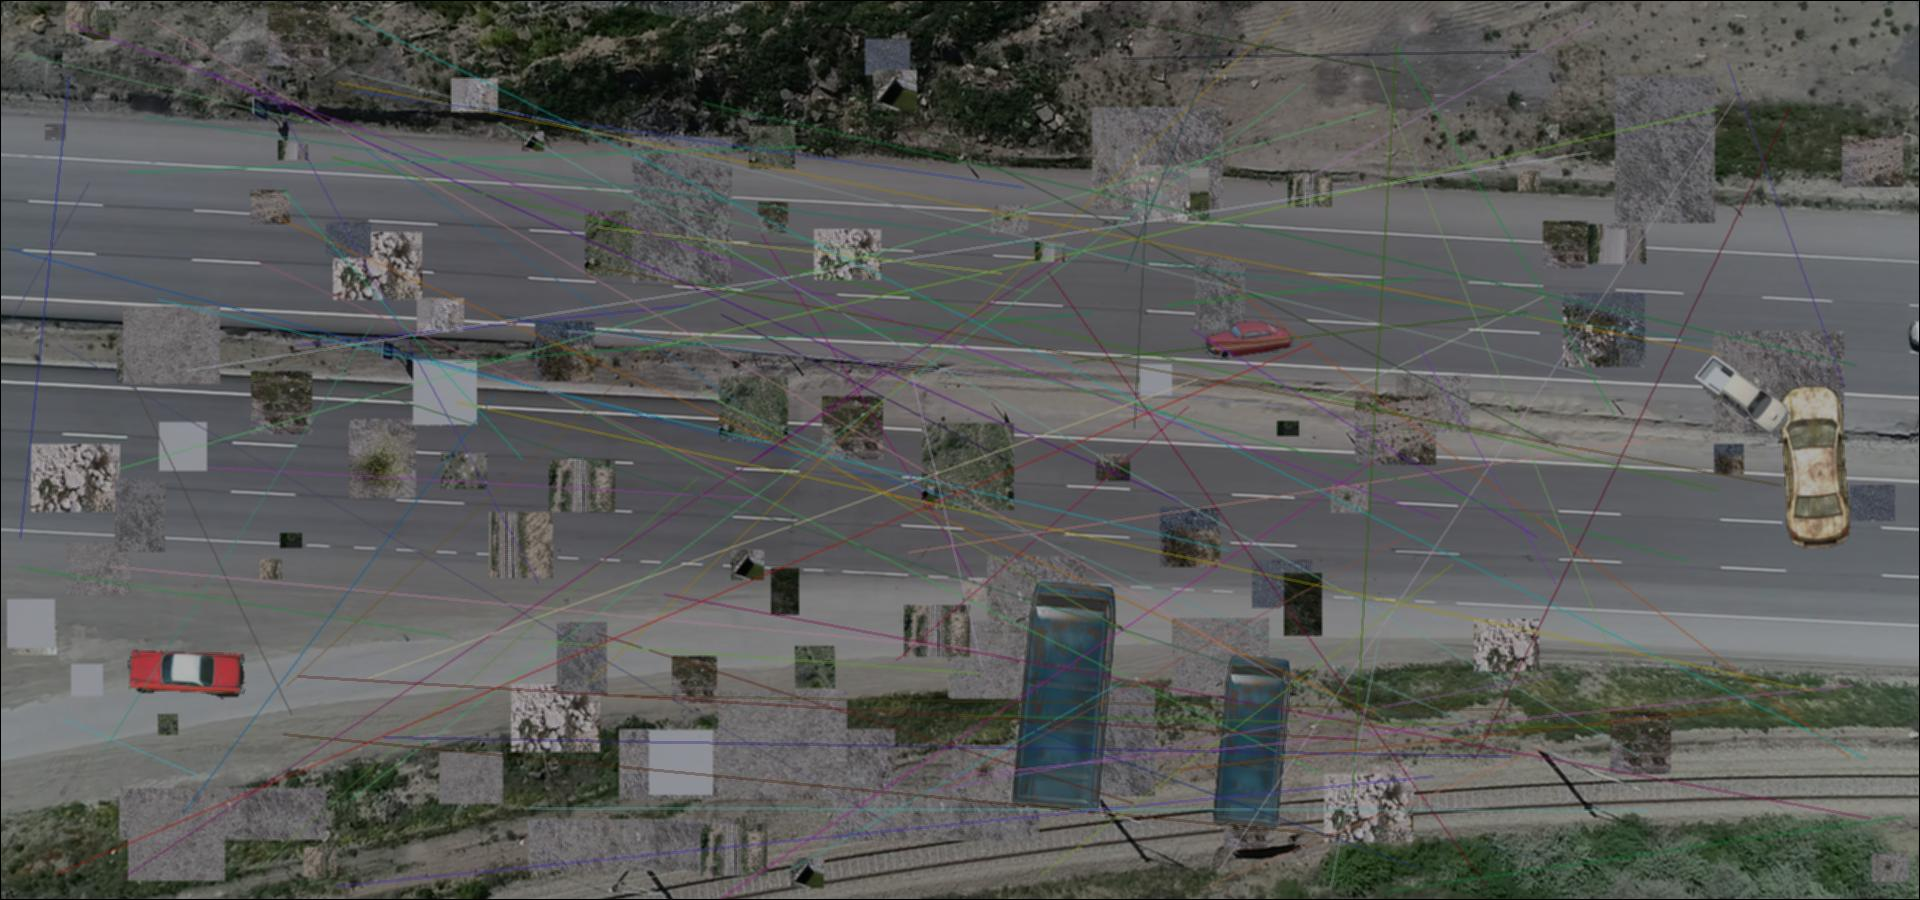arac: (1007, 578, 1123, 816), (1209, 653, 1296, 831), (1776, 383, 1853, 549), (1689, 353, 1791, 433), (129, 649, 249, 699), (1202, 321, 1296, 361)
